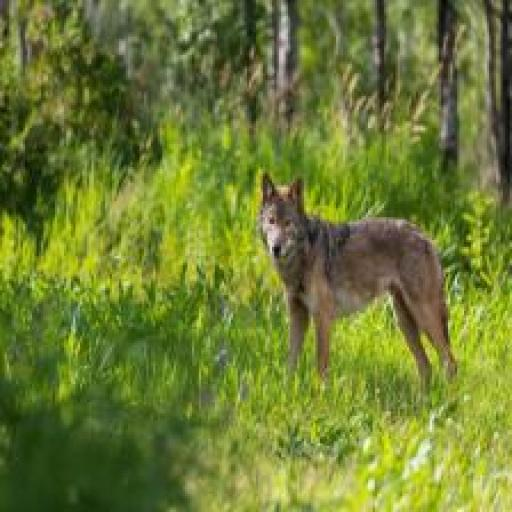wolf: (254, 169, 483, 439)
